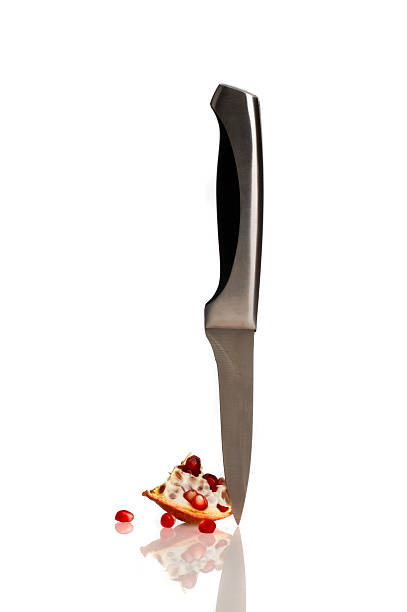knife: (200, 52, 268, 533)
